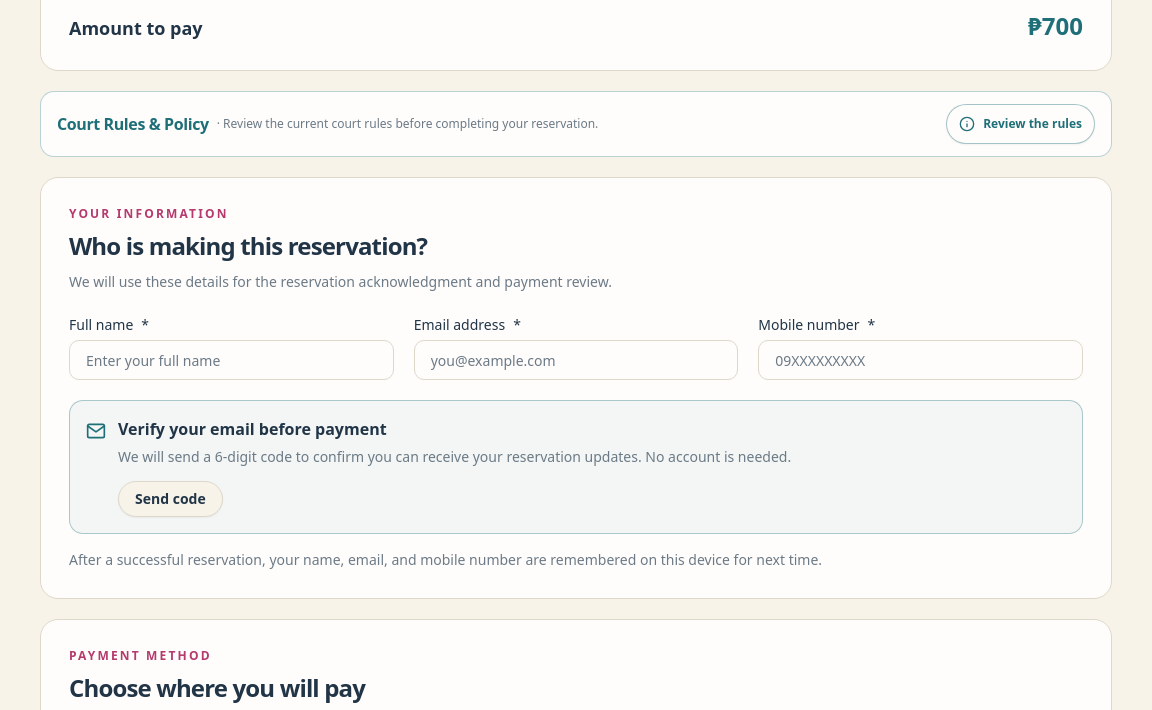
Scenario: ReservationCheckout › focuses the code field and verifies with Enter without submitting the booking
(page scrolled)
Type "mark@example.com" into the field labelled "Email address" at (576, 360), box [414,340,738,380]
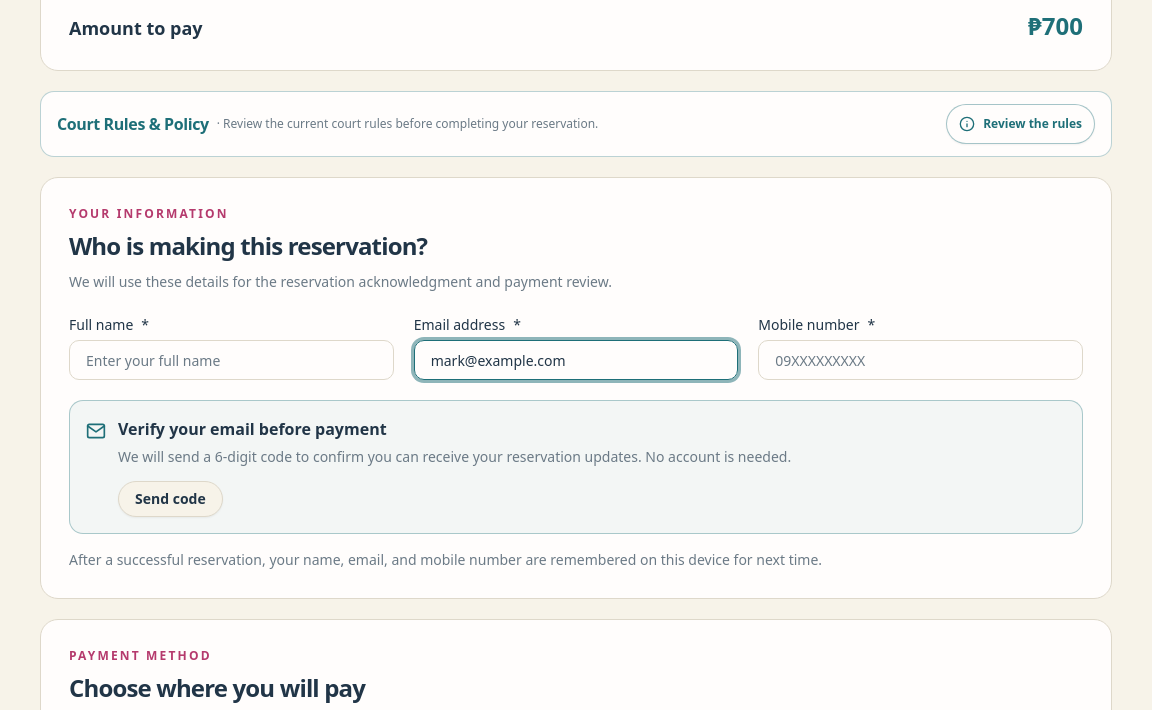
Click the button "Send code" at (170, 499), box [118,481,223,517]
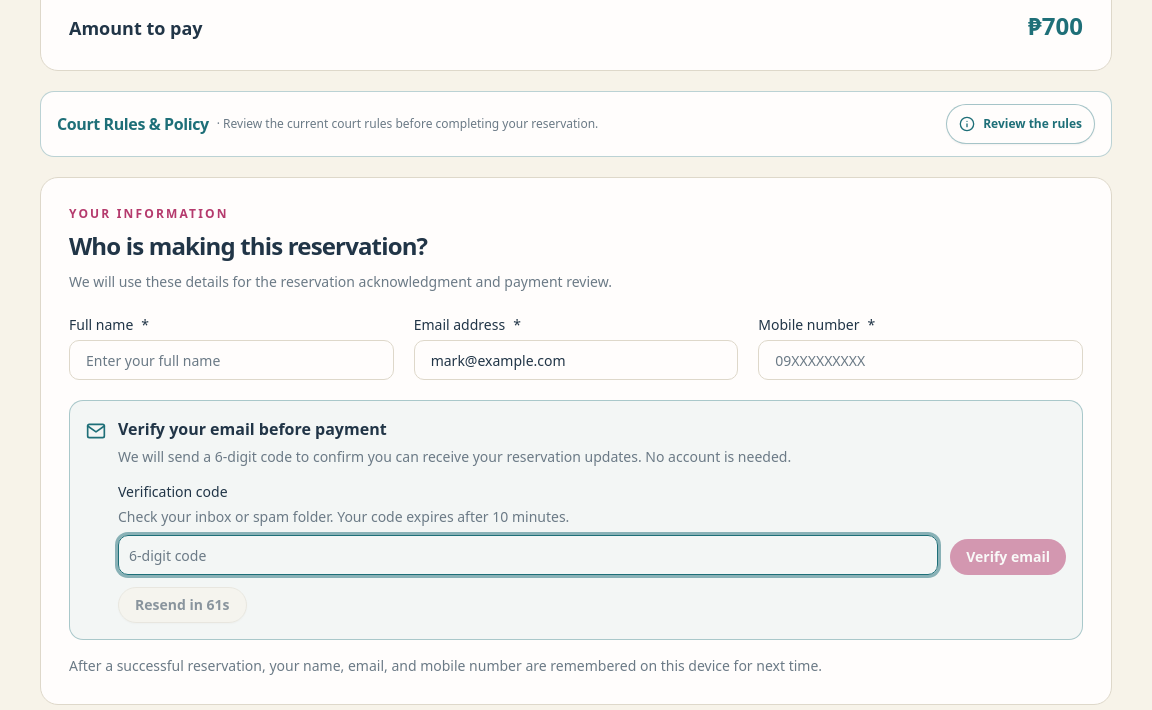
Type "123456" into the field labelled "Verification code" at (528, 555), box [118,535,938,575]
Then press Enter
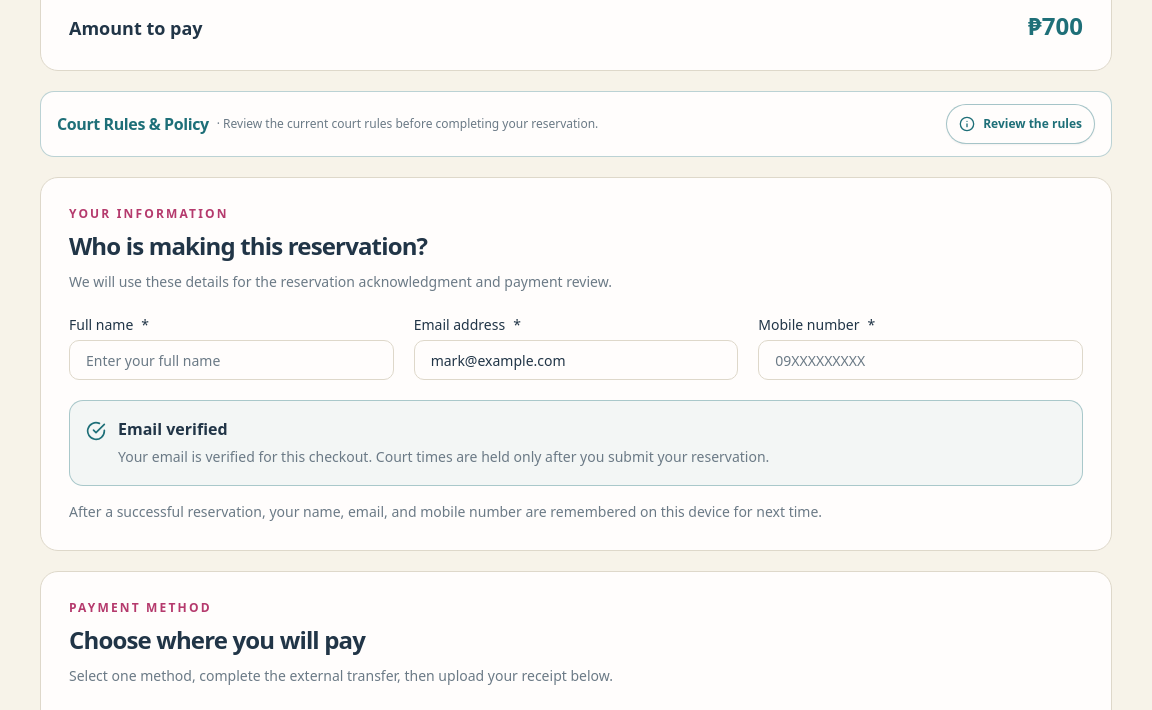
Now the text "Email verified" is shown, box [118,418,228,440]
